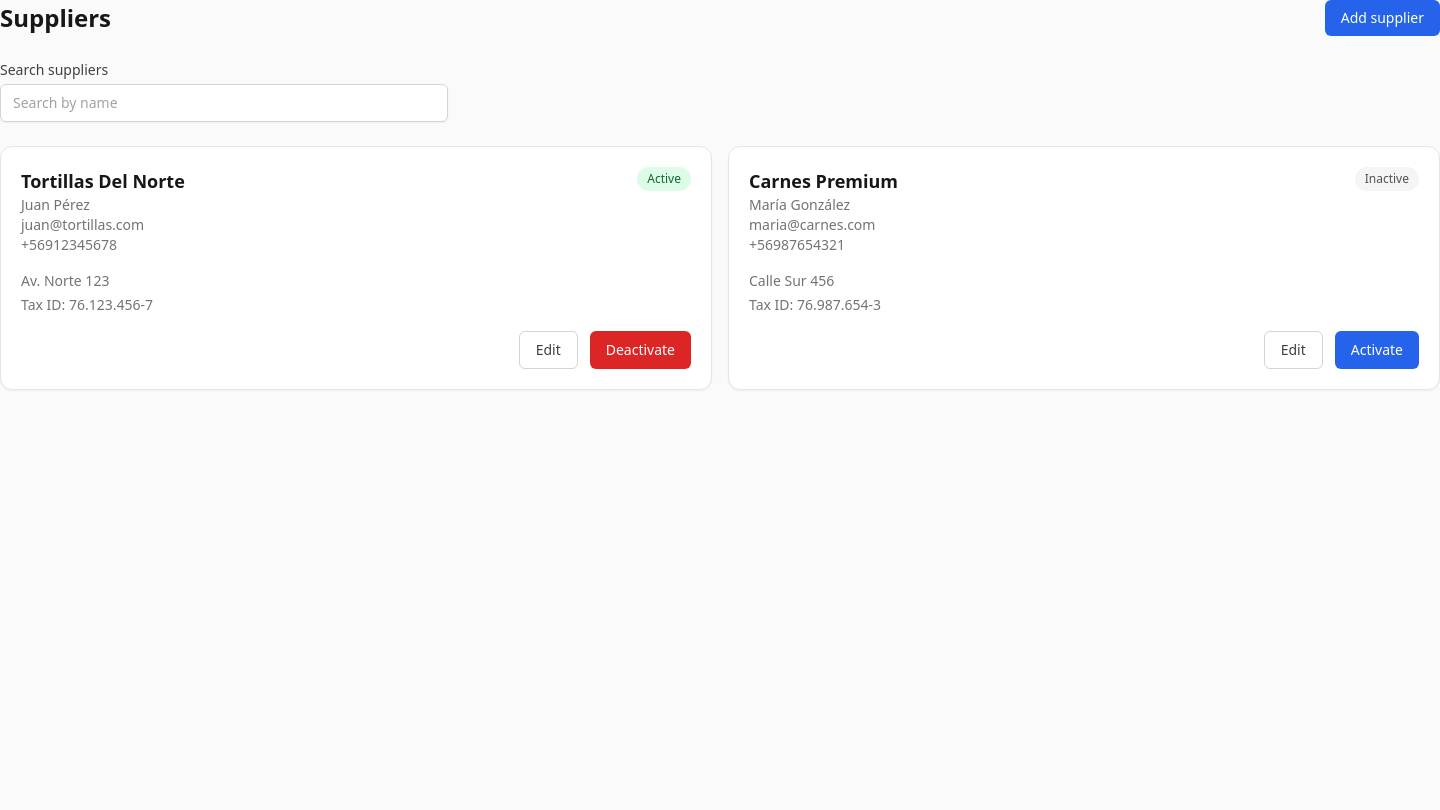
Test: SuppliersPage › opens edit supplier modal with initial data
The width and height of the screenshot is (1440, 810).
Expected: the heading "Tortillas Del Norte" is shown, [21,167,185,195]
What coordinates should you click on to do the following:
click the 1st button "Edit"
I would click on:
 (548, 350)
Its box is [519,331,578,369].
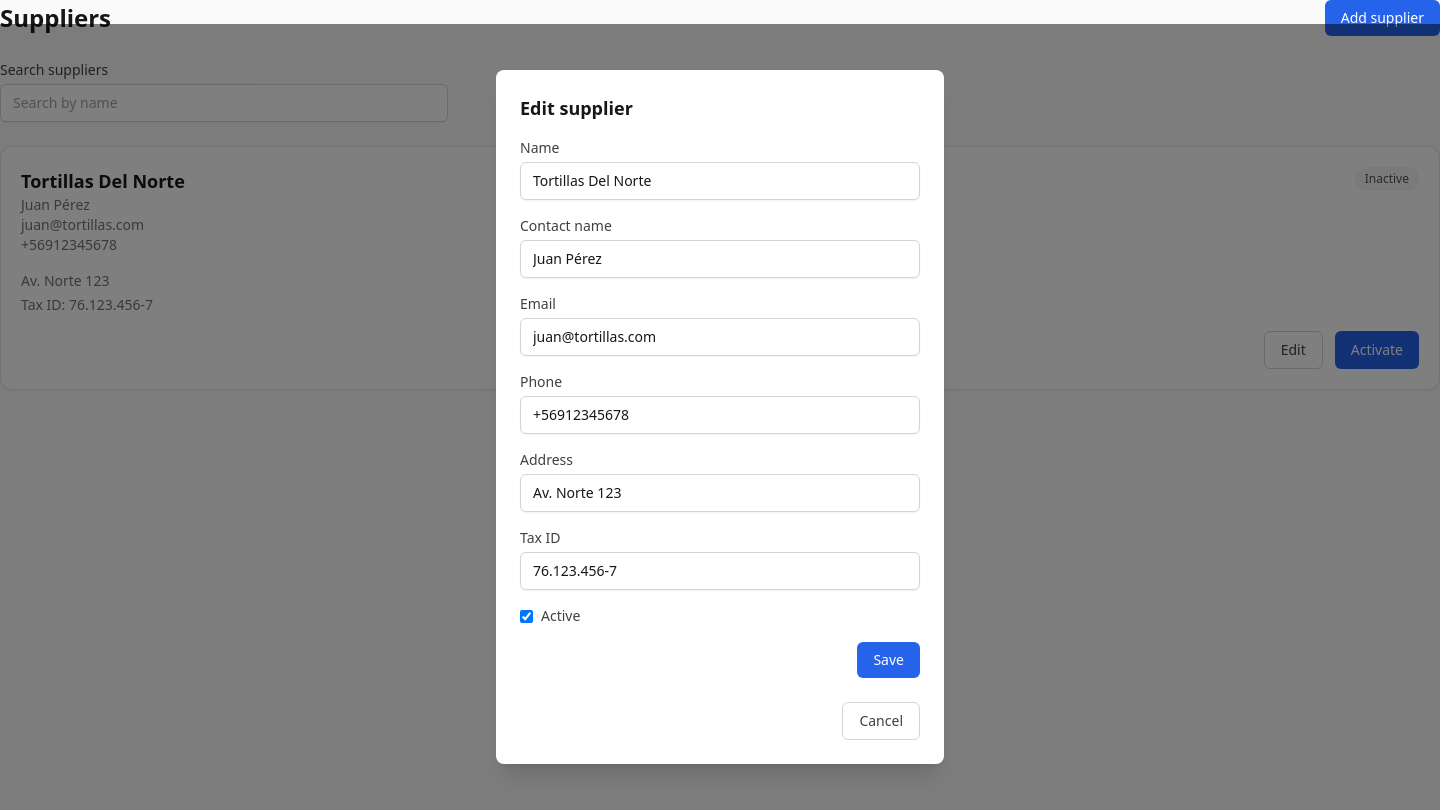
Expected: the dialog is shown
Expected: the field showing "Tortillas Del Norte" is shown, [520,162,920,200]
